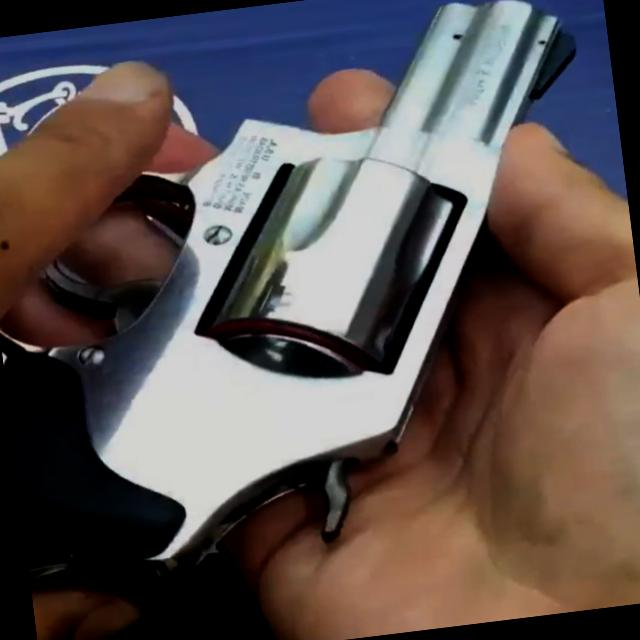revolver: (0, 0, 640, 613)
